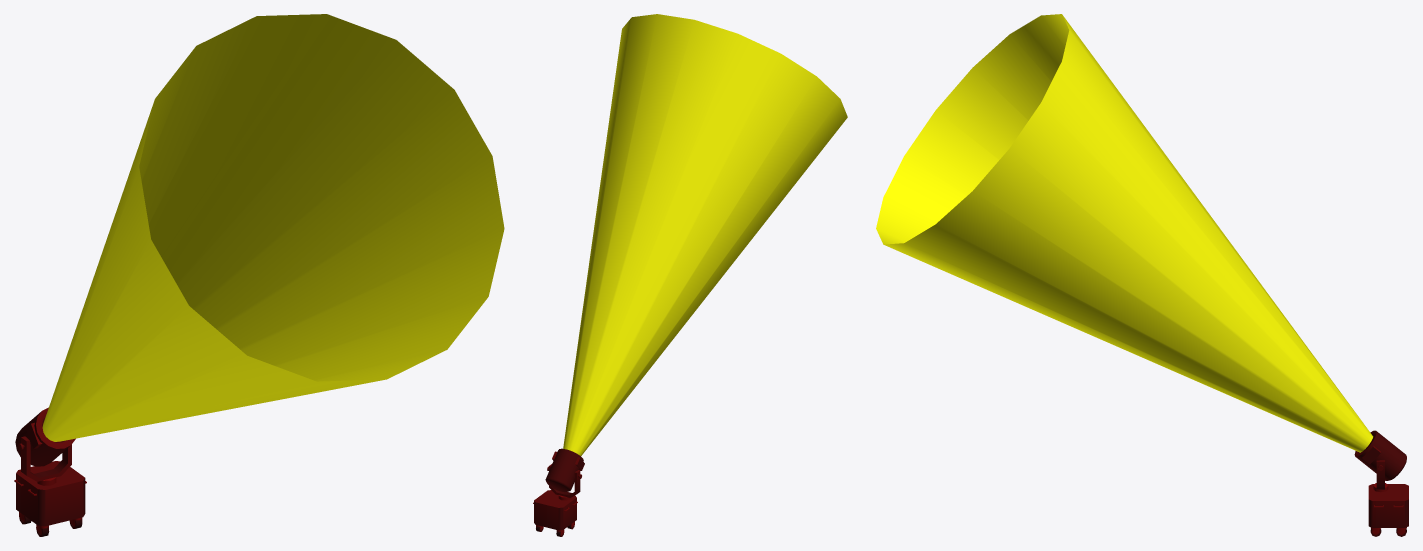
File: Searchlight.glb
3 views of the same model, side by side, from view 1: azimuth 30°, elevation 25°; view 2: azimuth 150°, elevation 25°; view 3: azimuth 270°, elevation 25° (orthographic). The views are drawn at different scales.
Visible parts, largest first — view 1: Searchlight; view 2: Searchlight; view 3: Searchlight.
Boxes of the visible parts, bbox=[...] form: Searchlight: bbox=[14, 14, 504, 536]; Searchlight: bbox=[533, 14, 847, 536]; Searchlight: bbox=[876, 14, 1408, 536].
Size of the model in its own units: 19.22 by 36.03 by 35.06.
